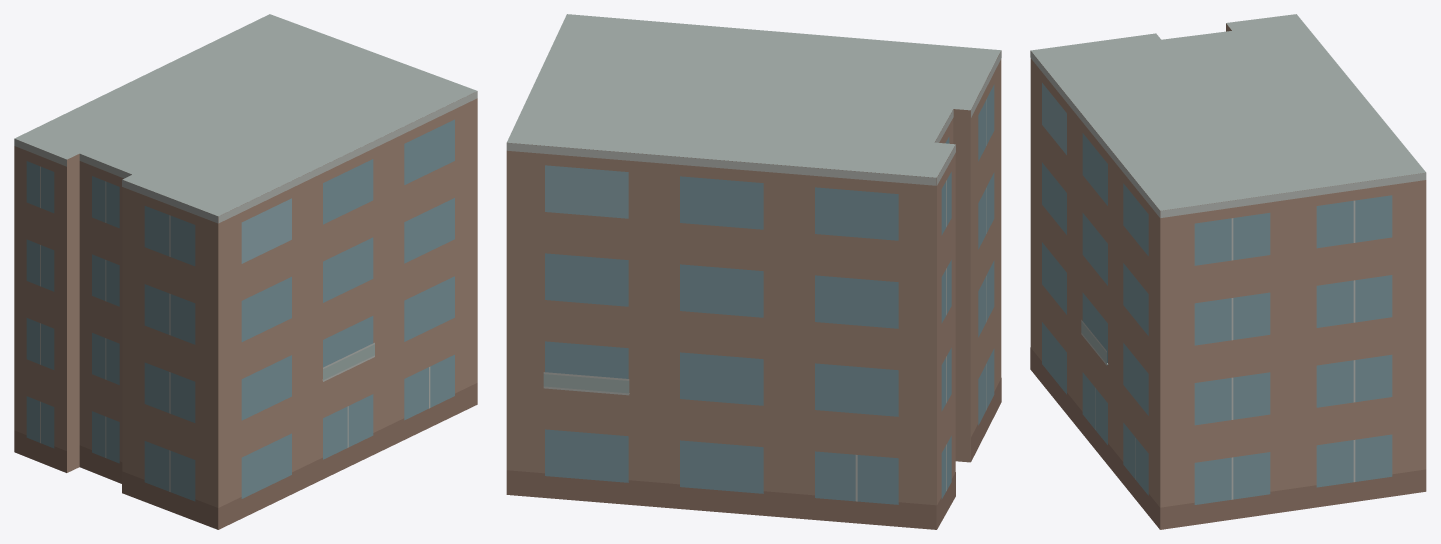
The model's file is survey-upis-32961732.glb.
3 renders of one model, left to right at view 1: azimuth 30°, elevation 25°; view 2: azimuth 150°, elevation 25°; view 3: azimuth 270°, elevation 25°, orthographic. The views are drawn at different scales.
Visible parts, largest first — view 1: survey-upis-32961732.tmp; view 2: survey-upis-32961732.tmp; view 3: survey-upis-32961732.tmp.
Boxes of the visible parts, left/top/right/bottom form: survey-upis-32961732.tmp: left=14, top=14, right=477, bottom=529; survey-upis-32961732.tmp: left=506, top=14, right=1001, bottom=529; survey-upis-32961732.tmp: left=1030, top=14, right=1426, bottom=529.
Bounding box in the file's own units: 14.04 × 10.6 × 11.93.
